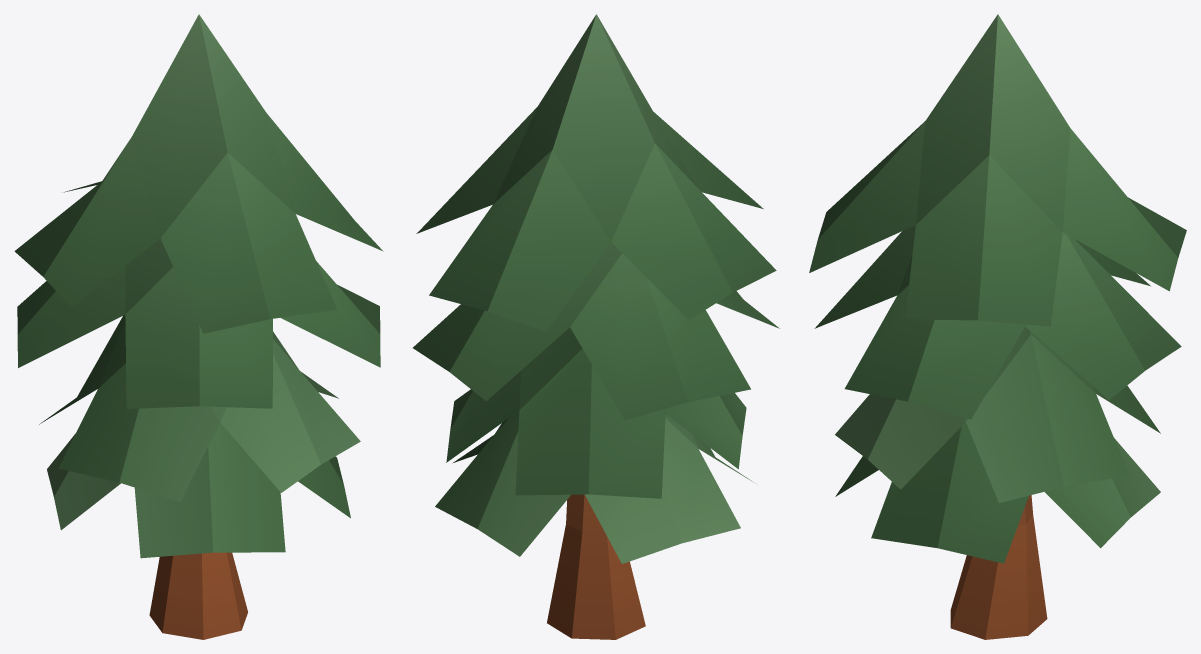
File: pine 3.fbx
3 renders of one model, left to right at view 1: azimuth 30°, elevation 25°; view 2: azimuth 150°, elevation 25°; view 3: azimuth 270°, elevation 25°, orthographic.
Visible parts, largest first — view 1: pine 3; view 2: pine 3; view 3: pine 3.
Boxes of the visible parts, x1,y1,x2,y2 form: pine 3: (14,14,383,639); pine 3: (413,14,779,639); pine 3: (809,14,1186,639).
Bounding box in the file's own units: 266 × 457 × 259.
